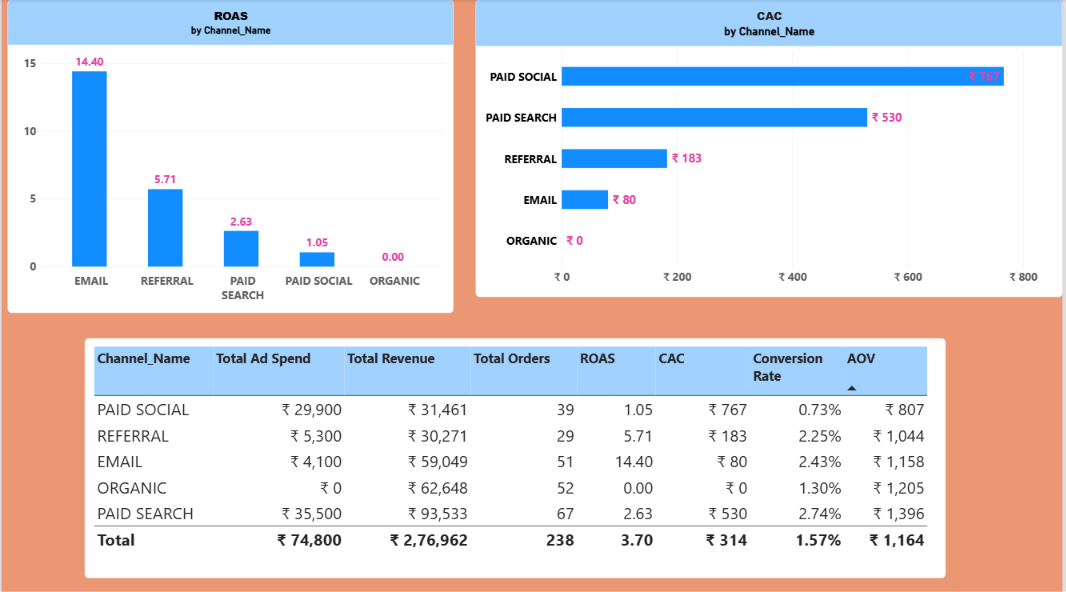

What the dashboard file says about the page in this screenshot:
{"tool":"powerbi","page":{"name":"Channel efficiency","canvas":[1920,1080],"ordinal":1},"visuals":[{"type":"clusteredColumnChart","fields":{"Category":["Dim_Channels.Channel_Name"],"Y":["_Measures.ROAS"]},"box":[10.3,0,806.9,568.1],"z":0},{"type":"clusteredBarChart","fields":{"Category":["Dim_Channels.Channel_Name"],"Y":["_Measures.CAC"]},"box":[858.3,0,1062.1,539.3],"z":1},{"type":"tableEx","fields":{"Values":["Dim_Channels.Channel_Name","_Measures.Total Ad Spend","_Measures.Total Revenue","_Measures.Total Orders","_Measures.ROAS","_Measures.CAC","_Measures.Conversion Rate","_Measures.AOV"]},"box":[150.3,613.4,1558.2,434.3],"z":2}]}

Visuals, with their boxes in screenshot pixels (x1, y1, x2, y2), scaled from the page's 1920x1080 canvas onto the 1066x592 screenshot:
clusteredColumnChart - Dim_Channels.Channel_Name x _Measures.ROAS: <bbox>6, 0, 454, 311</bbox>
clusteredBarChart - Dim_Channels.Channel_Name x _Measures.CAC: <bbox>477, 0, 1065, 296</bbox>
tableEx - Dim_Channels.Channel_Name x _Measures.Total Ad Spend: <bbox>83, 336, 949, 574</bbox>
